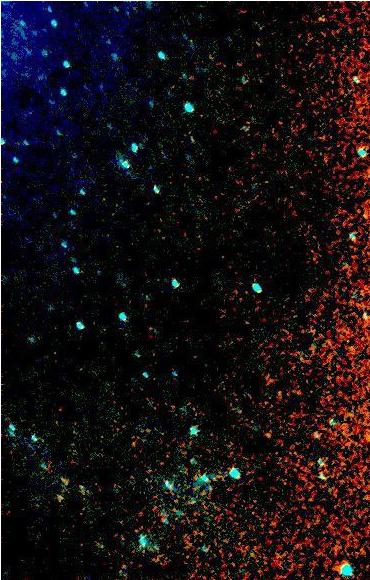star: (248, 418, 278, 448)
